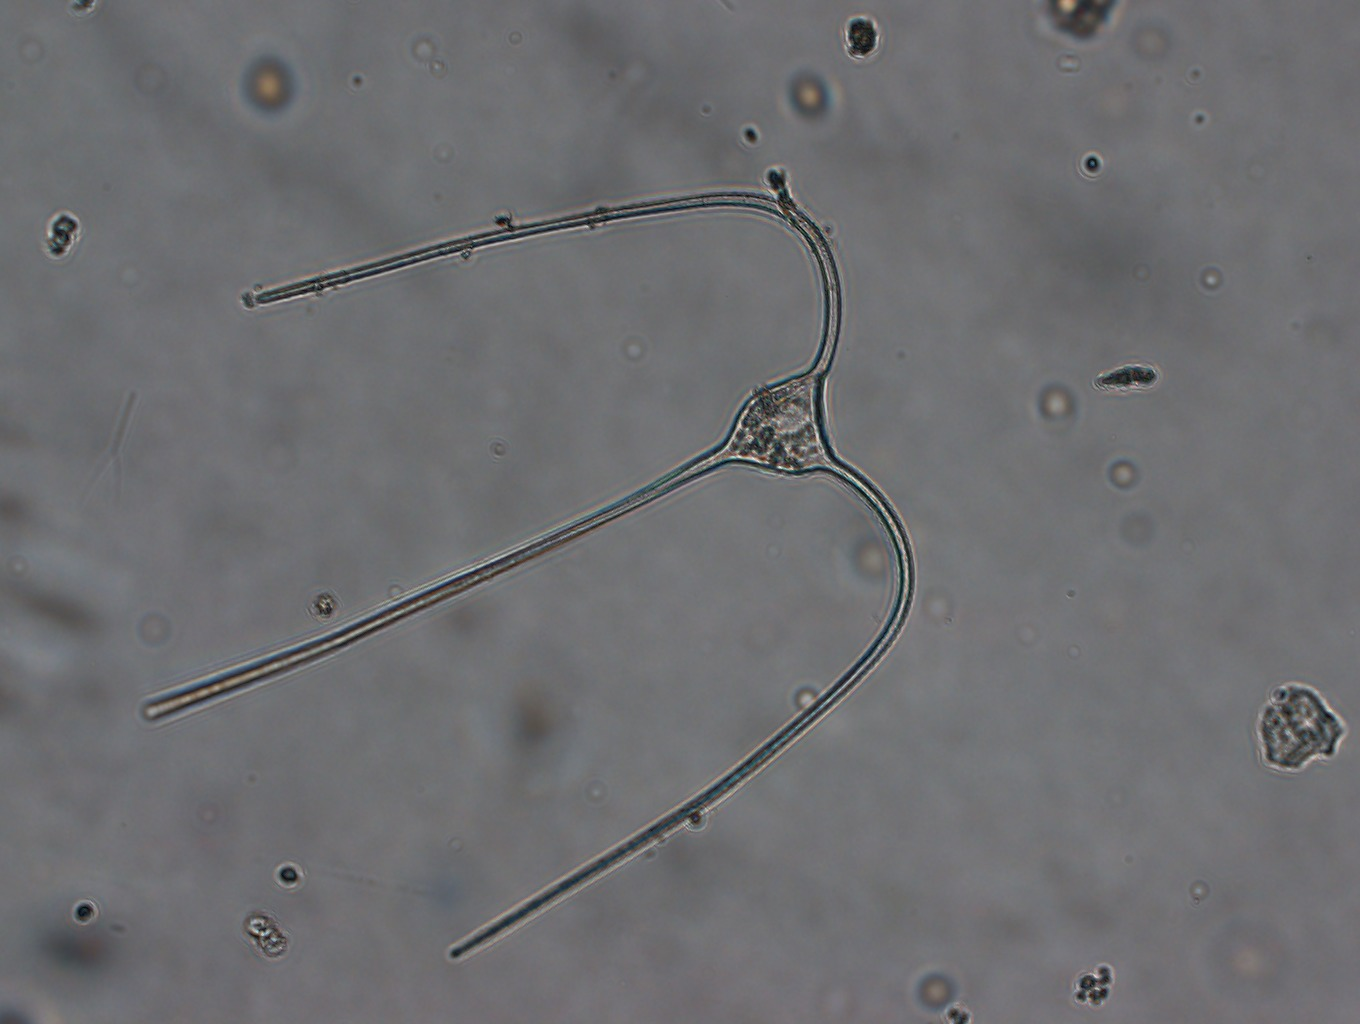ceratium trichoceros: (126, 181, 922, 958)
